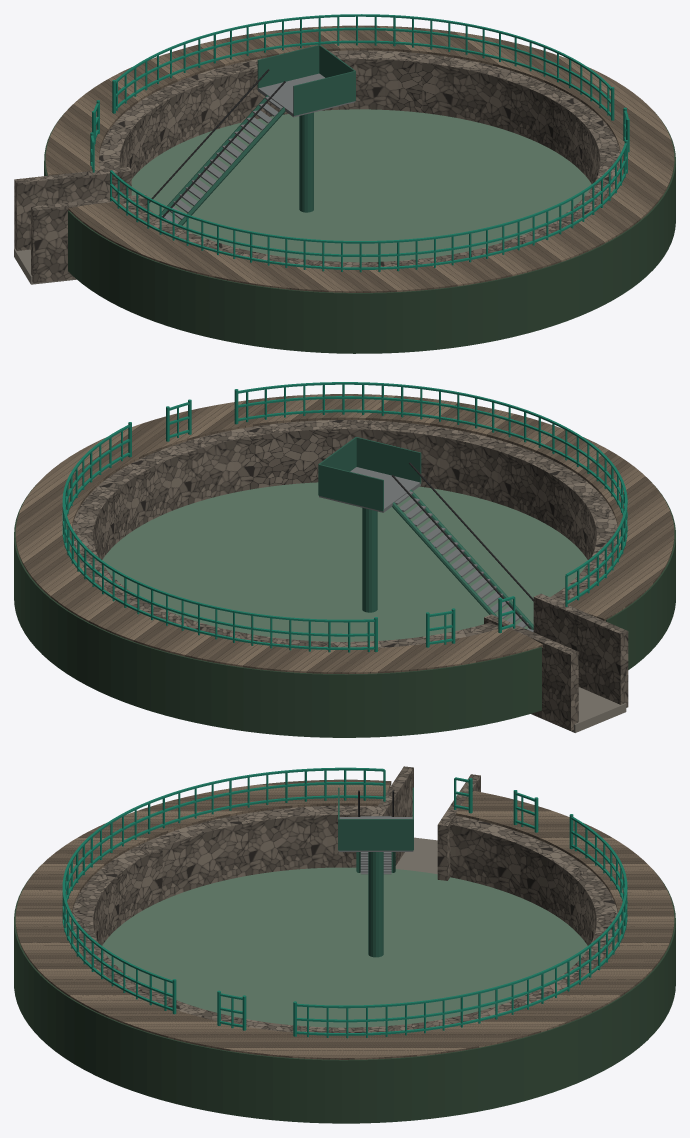
File: AR_Pagode_station.fbx
3 views of the same model, one above another, from view 1: azimuth 30°, elevation 25°; view 2: azimuth 150°, elevation 25°; view 3: azimuth 270°, elevation 25° (orthographic). The views are drawn at different scales.
Parts seen in each view (by area): view 1: PG_beton_groen_licht_0_st, PG_beton_groen_0_st, PG_natuursteen_0_st, PG_vlonder_0_st, PG_groen_0_st, PG_hek_open_0_st, PG_rooster_0_st, PG_staal_groen_0_st, PG_hek_0_st; view 2: PG_beton_groen_licht_0_st, PG_natuursteen_0_st, PG_vlonder_0_st, PG_beton_groen_0_st, PG_groen_0_st, PG_hek_open_0_st, PG_rooster_0_st, PG_staal_groen_0_st, PG_grind_0_st, PG_hek_0_st; view 3: PG_beton_groen_licht_0_st, PG_beton_groen_0_st, PG_vlonder_0_st, PG_natuursteen_0_st, PG_groen_0_st, PG_hek_open_0_st, PG_staal_groen_0_st, PG_grind_0_st, PG_rooster_0_st.
Boxes of the visible parts, bbox=[...] form: PG_beton_groen_licht_0_st: bbox=[131, 109, 591, 262]; PG_beton_groen_0_st: bbox=[44, 108, 675, 353]; PG_natuursteen_0_st: bbox=[14, 50, 620, 283]; PG_vlonder_0_st: bbox=[45, 25, 674, 292]; PG_groen_0_st: bbox=[90, 14, 629, 272]; PG_hek_open_0_st: bbox=[257, 45, 355, 115]; PG_rooster_0_st: bbox=[161, 73, 355, 223]; PG_staal_groen_0_st: bbox=[158, 95, 313, 225]; PG_hek_0_st: bbox=[149, 69, 285, 217]; PG_beton_groen_licht_0_st: bbox=[102, 482, 587, 641]; PG_natuursteen_0_st: bbox=[72, 420, 628, 730]; PG_vlonder_0_st: bbox=[15, 394, 674, 674]; PG_beton_groen_0_st: bbox=[14, 482, 675, 737]; PG_groen_0_st: bbox=[62, 382, 627, 652]; PG_hek_open_0_st: bbox=[318, 437, 421, 511]; PG_rooster_0_st: bbox=[319, 467, 533, 631]; PG_staal_groen_0_st: bbox=[362, 489, 533, 629]; PG_grind_0_st: bbox=[531, 687, 626, 732]; PG_hek_0_st: bbox=[392, 462, 533, 629]; PG_beton_groen_licht_0_st: bbox=[102, 867, 587, 1027]; PG_beton_groen_0_st: bbox=[14, 867, 675, 1123]; PG_vlonder_0_st: bbox=[15, 779, 674, 1059]; PG_natuursteen_0_st: bbox=[72, 766, 617, 1032]; PG_groen_0_st: bbox=[62, 767, 627, 1038]; PG_hek_open_0_st: bbox=[338, 787, 413, 850]; PG_staal_groen_0_st: bbox=[356, 852, 395, 957]; PG_grind_0_st: bbox=[395, 837, 437, 874]; PG_rooster_0_st: bbox=[338, 816, 413, 874].
Size of the model in its own units: 22.28 by 6.8 by 21.3.
